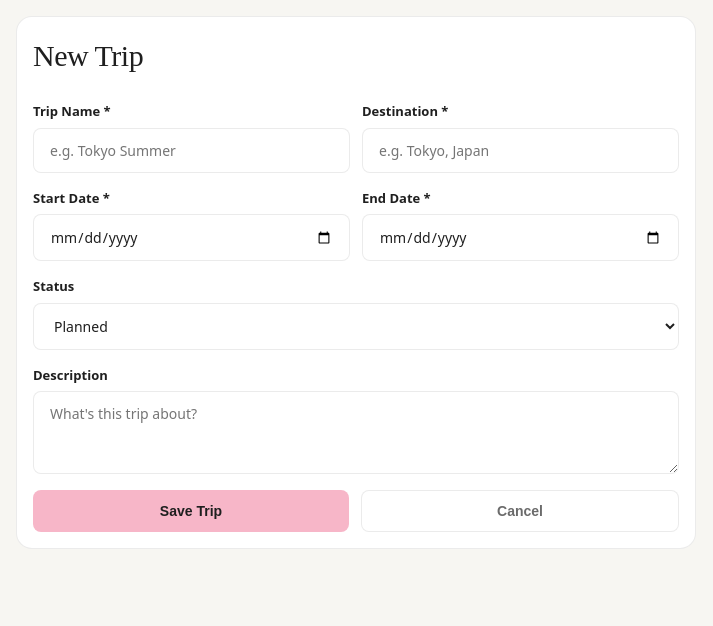
Test case: NewTrip (validation) › should show an error and not submit when the trip name is missing
The width and height of the screenshot is (713, 626).
Click the button "Save Trip" at point(191, 511), box [33,490,349,532]
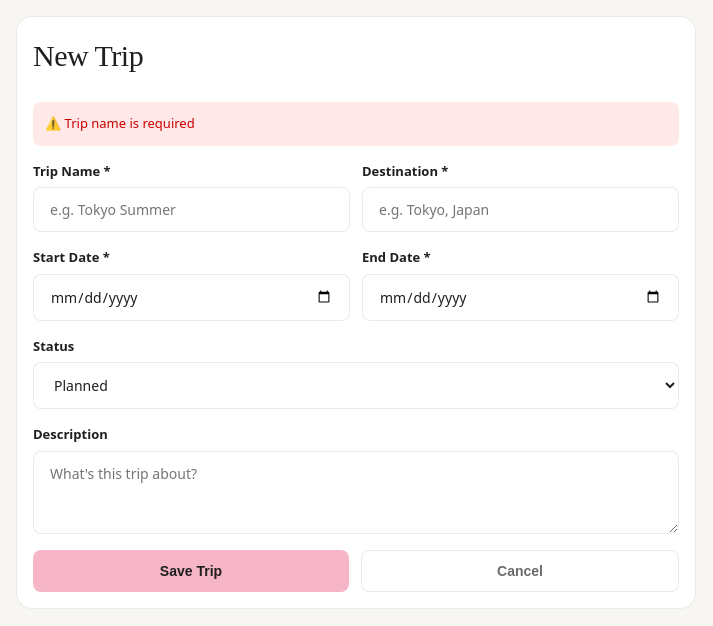
expect the text with class "error-message" shows "Trip name is required": met, box [45,114,195,132]
